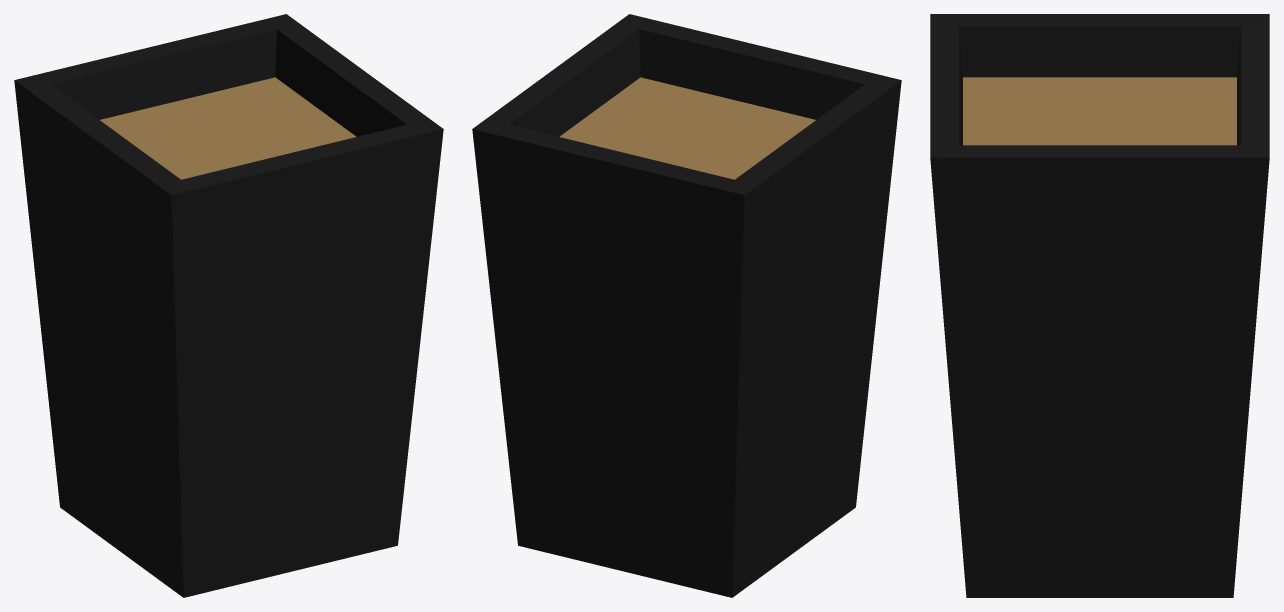
File: Itr_Obj_Flowerpot1_Base_02.FBX
3 views of the same model, side by side, from view 1: azimuth 30°, elevation 25°; view 2: azimuth 150°, elevation 25°; view 3: azimuth 270°, elevation 25° (orthographic). The views are drawn at different scales.
Parts seen in each view (by area): view 1: Itr_Obj_Flowerpot1_Base_02; view 2: Itr_Obj_Flowerpot1_Base_02; view 3: Itr_Obj_Flowerpot1_Base_02.
Part boxes in pixels (bbox=[...]): Itr_Obj_Flowerpot1_Base_02: bbox=[14, 14, 443, 597]; Itr_Obj_Flowerpot1_Base_02: bbox=[472, 14, 901, 597]; Itr_Obj_Flowerpot1_Base_02: bbox=[930, 14, 1269, 597].
Size of the model in its own units: 18.75 by 27.77 by 18.75.
